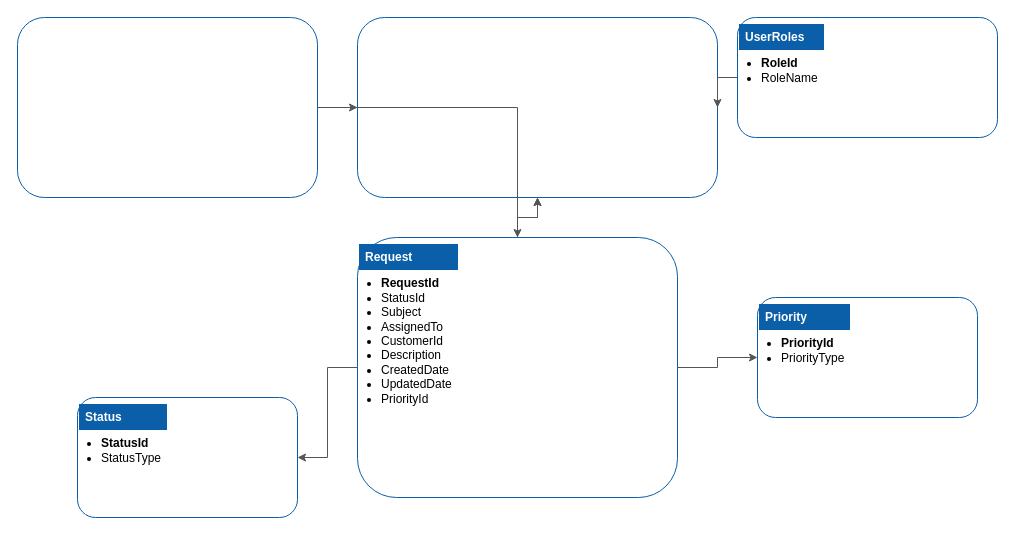
Image size: 1015x535. Some labels were removed from this diagram. Here are the shapes that lost their labels. From the top down, the centre of each, then its label:
At point (167, 107): "RequestComment CommentId RequestId UserId Comments CreatedDate".
At point (537, 107): "UserProfile UserId UserName Email Password RoleId".
